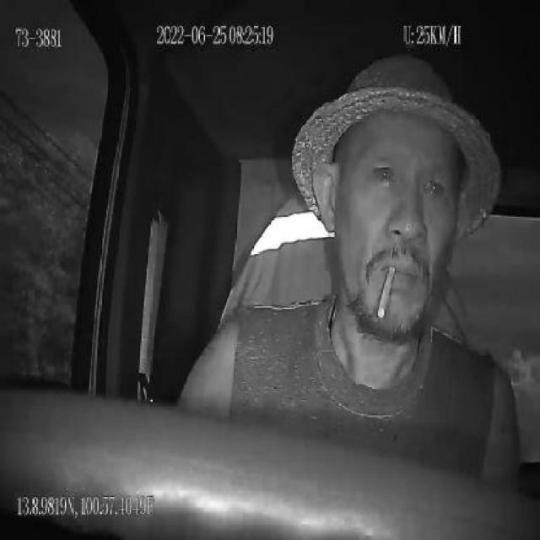smoking: (377, 260, 397, 324)
